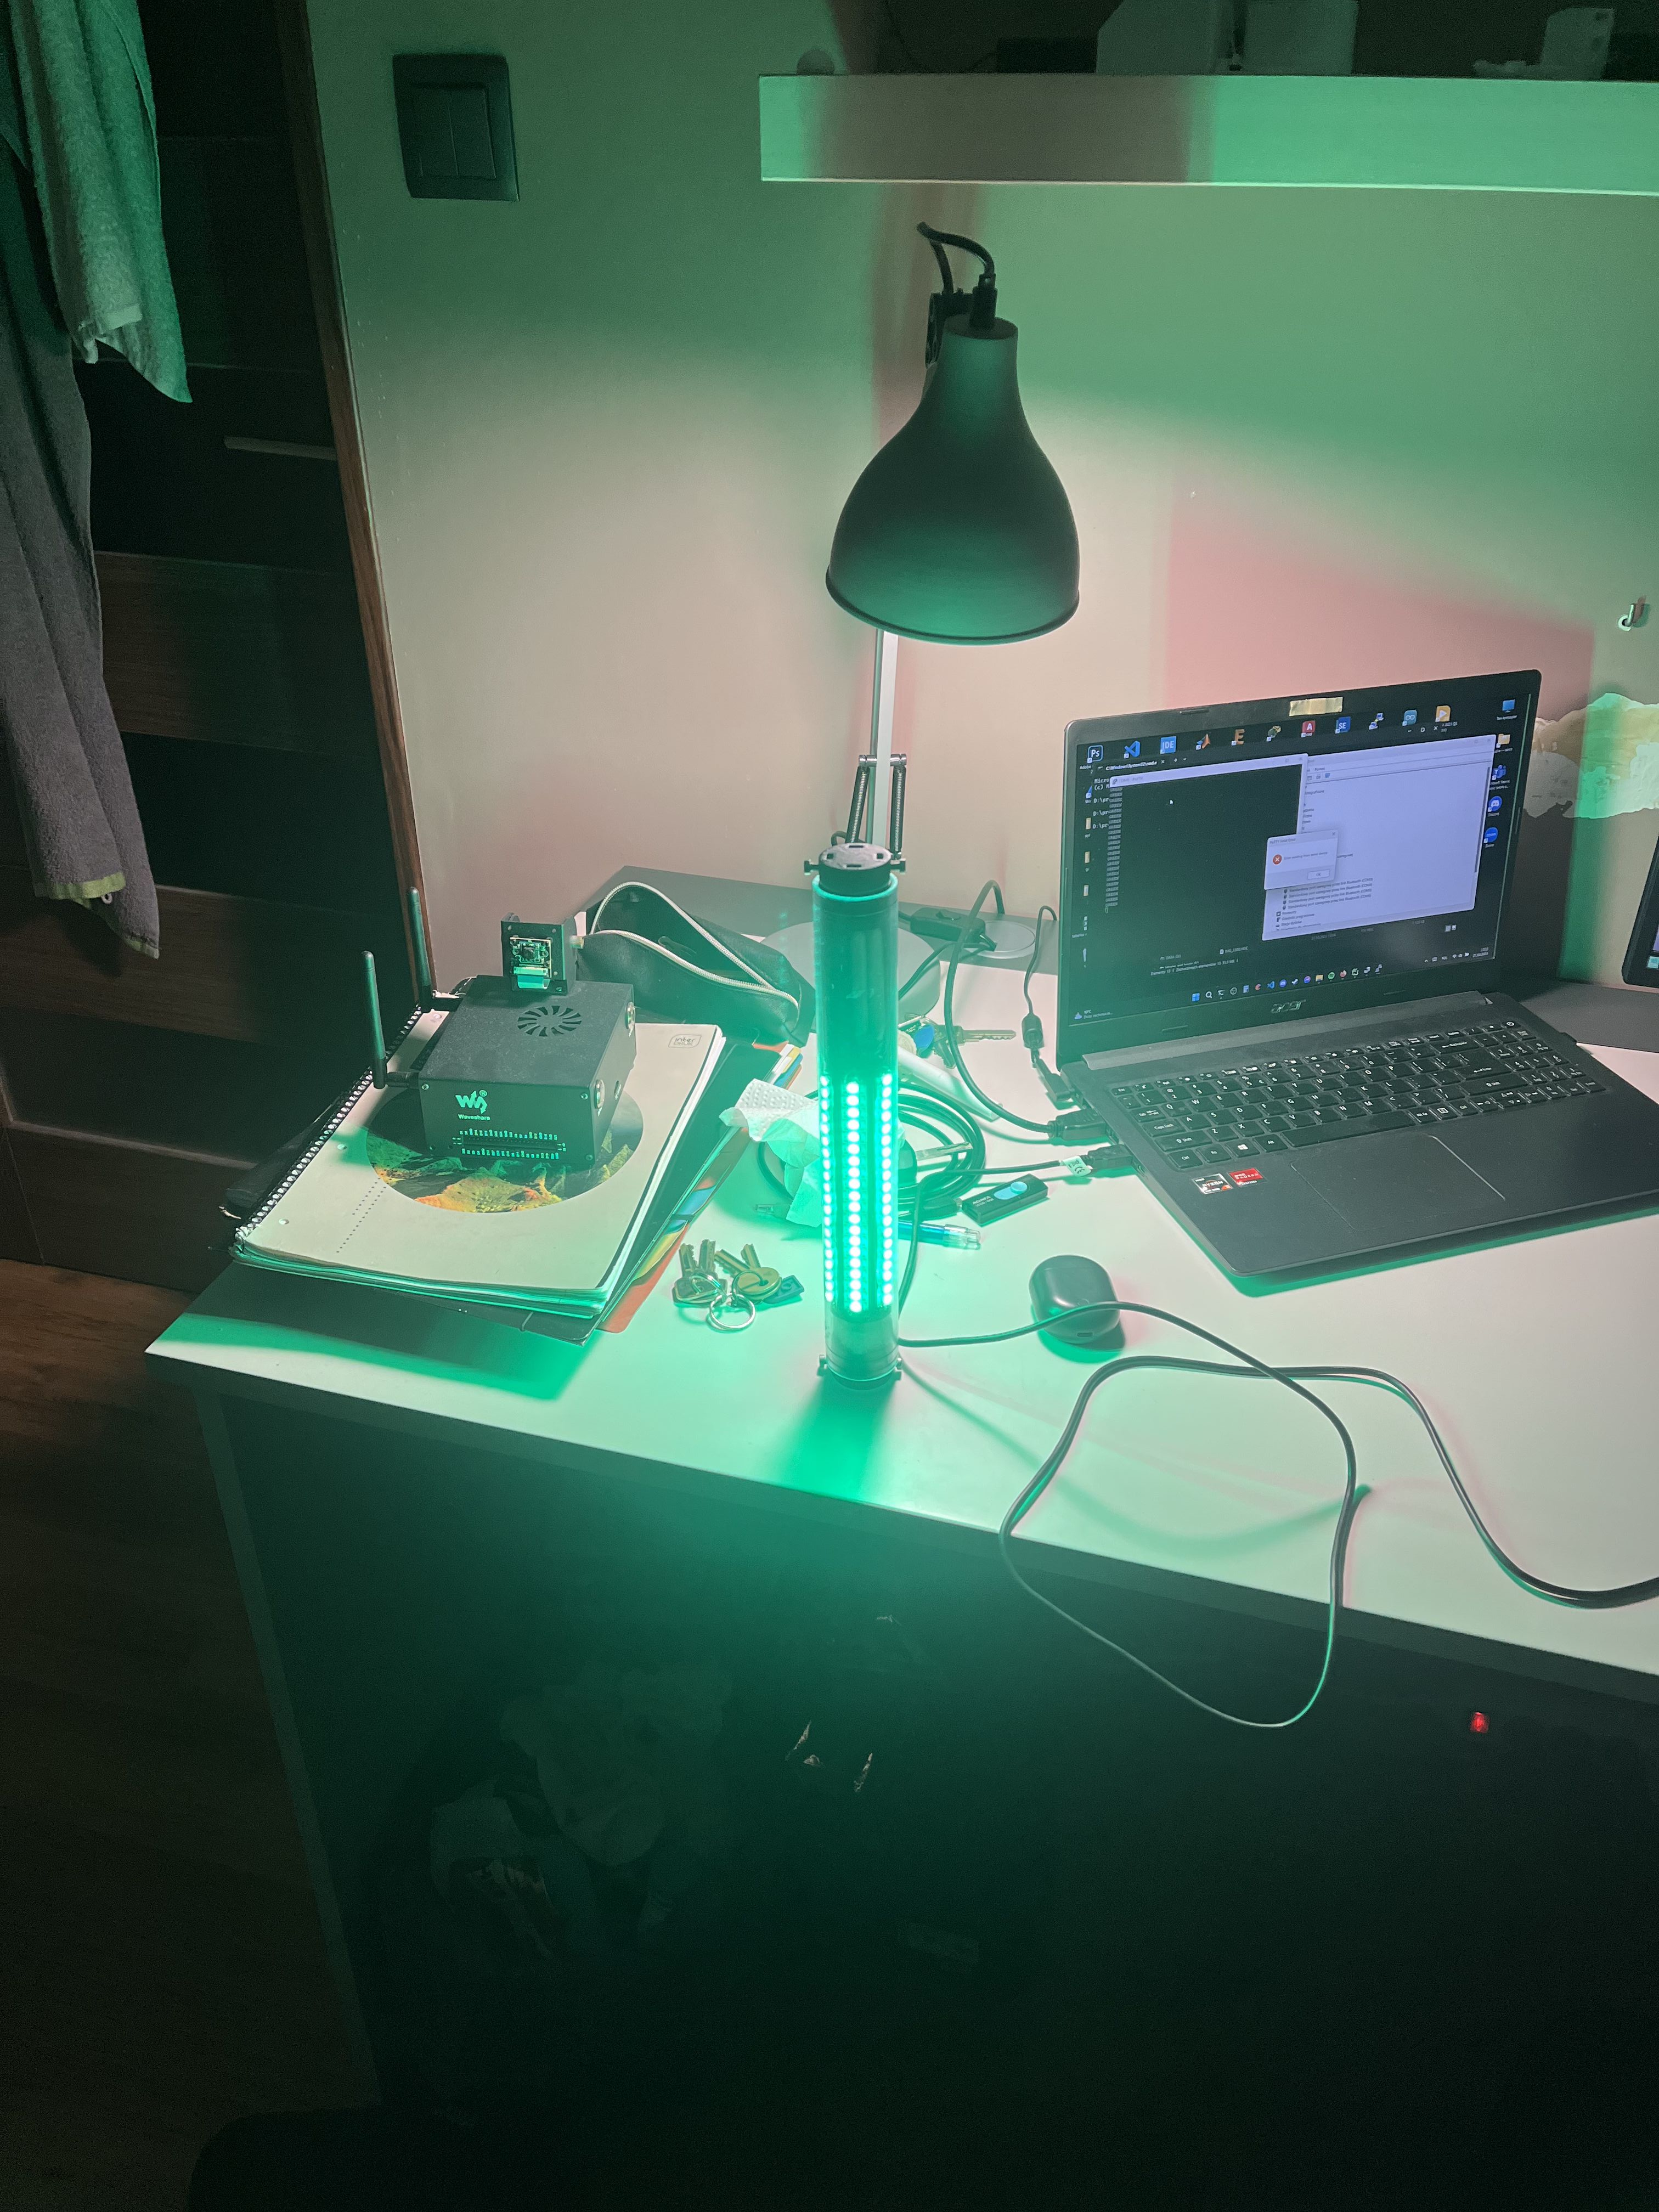green: (817, 885, 892, 1385)
